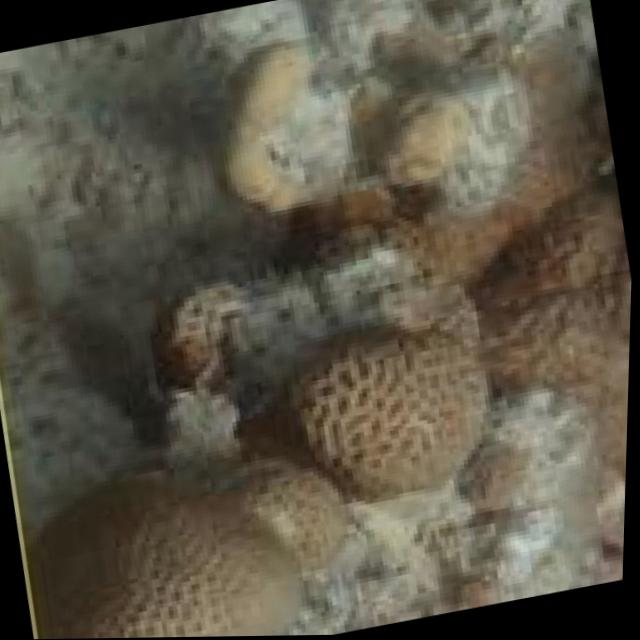Healthy Coral: (0, 286, 544, 640)
